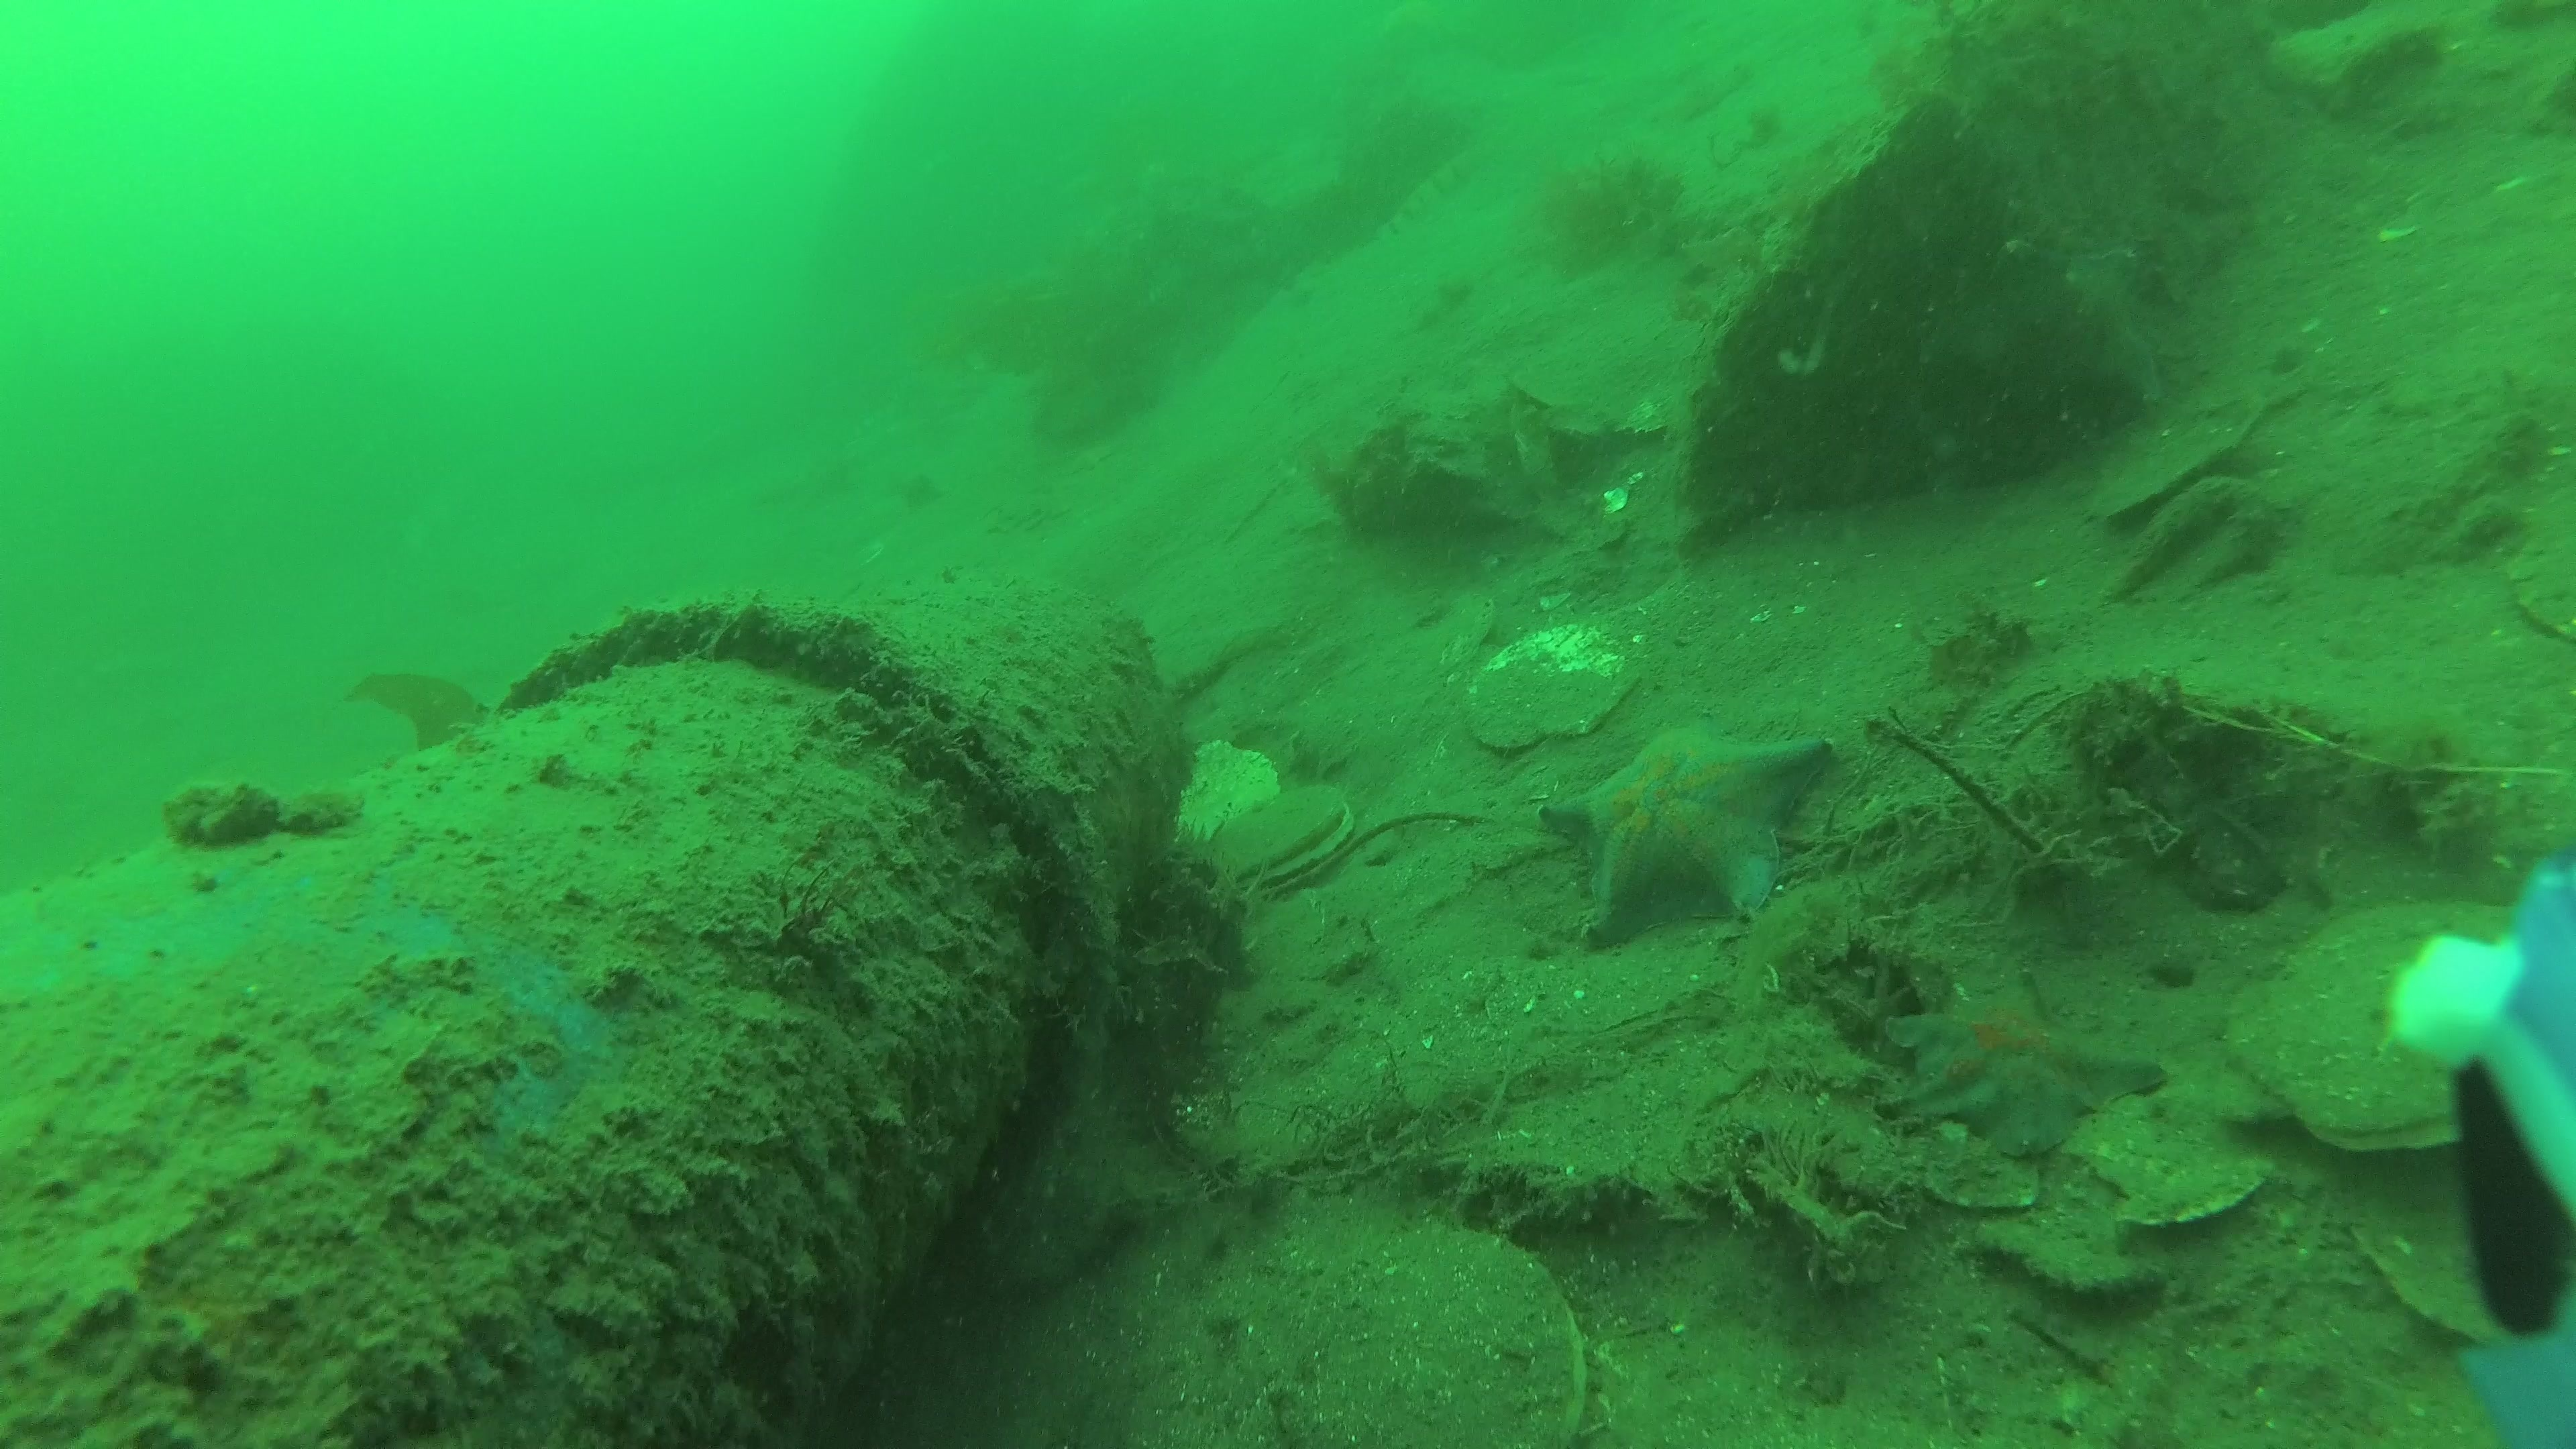scallop: (2240, 897, 2546, 1157), (1290, 1240, 1591, 1449), (1474, 625, 1631, 755), (1207, 793, 1359, 895)
starfish: (1541, 727, 1835, 952), (1888, 994, 2166, 1157)
